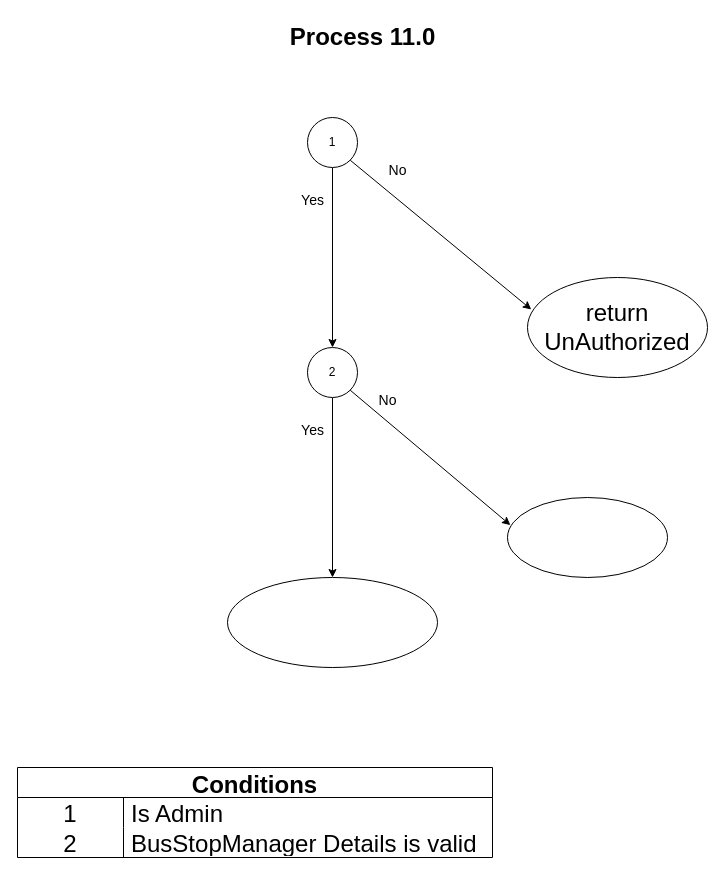
Image size: 725x875. Some labels were removed from this diagram. The centre of each missing label's shape, as x and y in pixels:
"return BadRequest" belongs at [587,537].
"Update In Database" belongs at [332,622].
